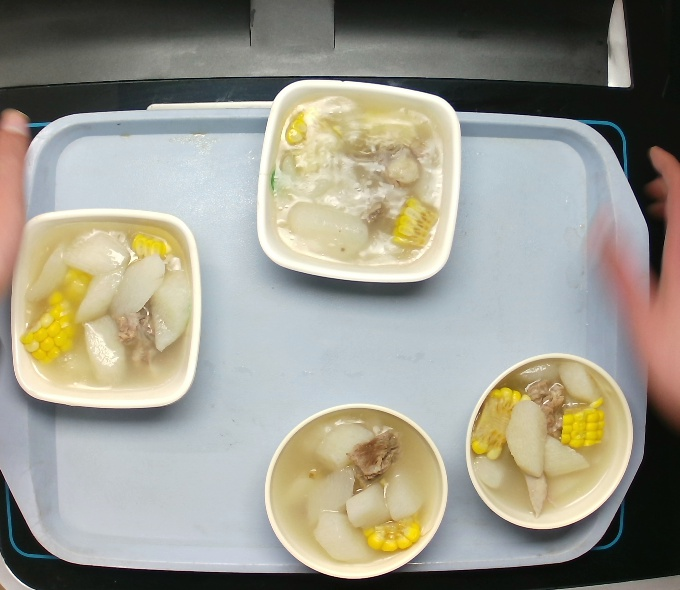wcq-ShanYaoYuMiTang: (16, 216, 196, 396), (269, 90, 446, 269), (273, 407, 442, 569), (469, 356, 618, 520)
